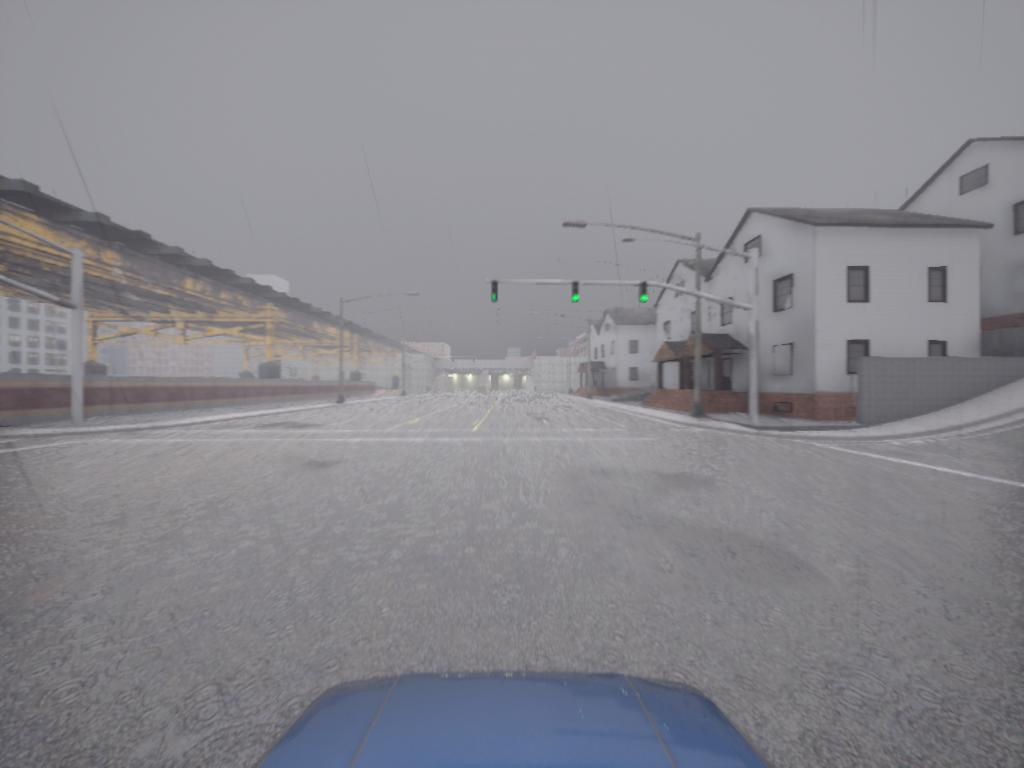traffic_light: (639, 284, 652, 305), (571, 283, 581, 304), (491, 282, 500, 303), (453, 357, 456, 364), (435, 358, 438, 364), (474, 359, 476, 364)
